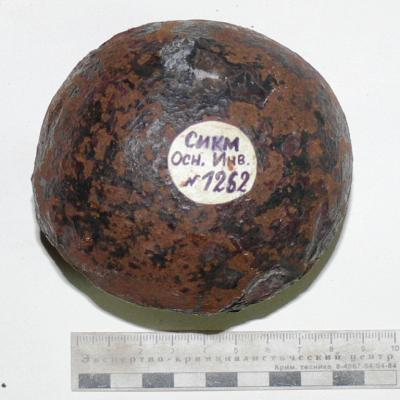weapon: (30, 19, 354, 335)
